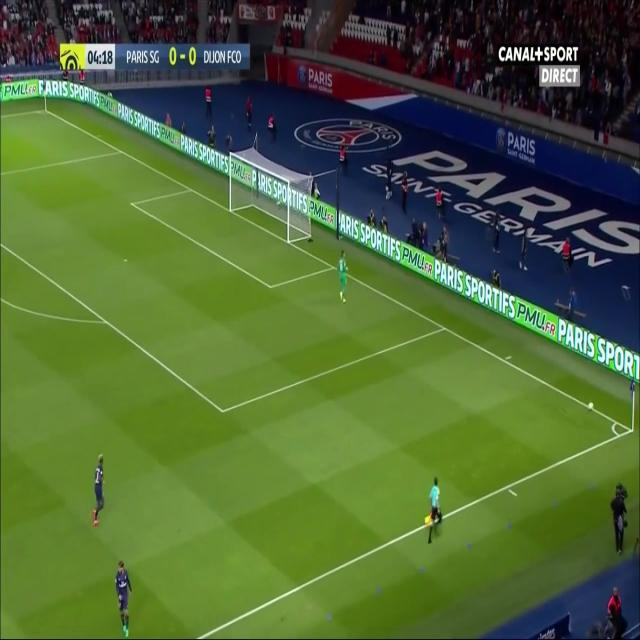Ball: (585, 398, 596, 414)
Goalkeeper: (335, 248, 351, 306)
Player: (114, 557, 133, 639), (89, 452, 108, 532)
Referee: (424, 473, 446, 548)
